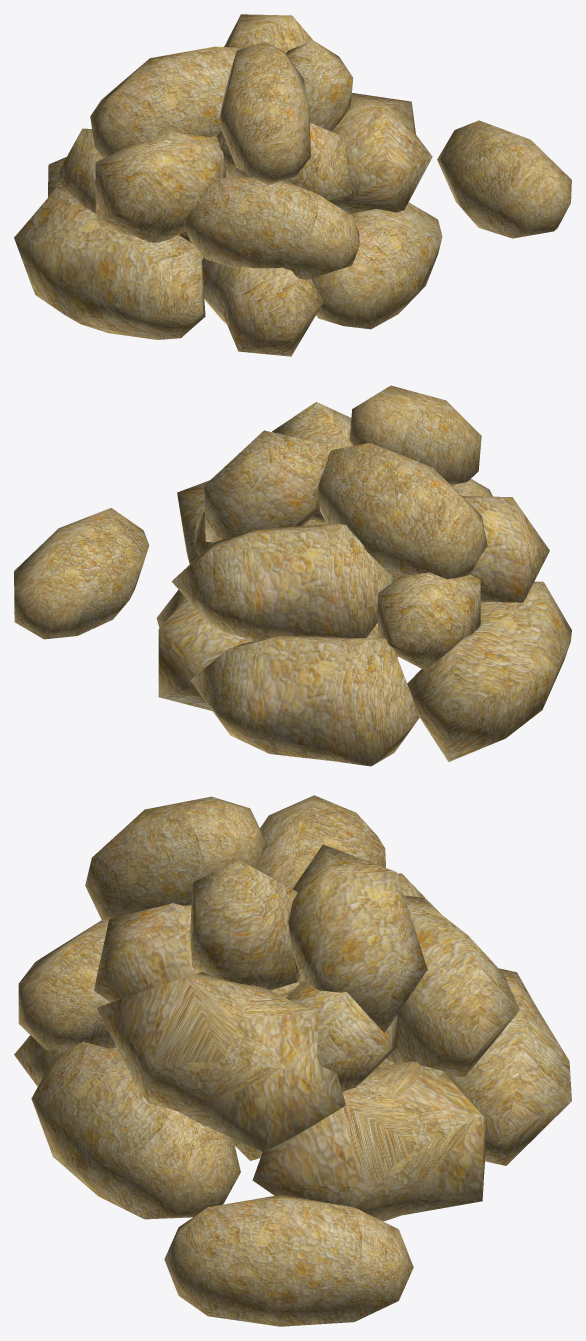
File: Potatoes.FBX
The picture shows the model from 3 angles, top to bottom: view 1: azimuth 30°, elevation 25°; view 2: azimuth 150°, elevation 25°; view 3: azimuth 270°, elevation 25°; orthographic projection. The views are drawn at different scales.
Parts seen in each view (by area): view 1: Pile O' Potatoes, Potato; view 2: Pile O' Potatoes, Potato; view 3: Pile O' Potatoes, Potato.
Boxes of the visible parts, x1,y1,x2,y2 form: Pile O' Potatoes: [14, 14, 442, 356]; Potato: [437, 120, 571, 238]; Pile O' Potatoes: [156, 385, 571, 766]; Potato: [14, 508, 149, 639]; Pile O' Potatoes: [14, 795, 571, 1221]; Potato: [164, 1195, 413, 1326].
Size of the model in its own units: 61.77 by 32.95 by 45.69.
